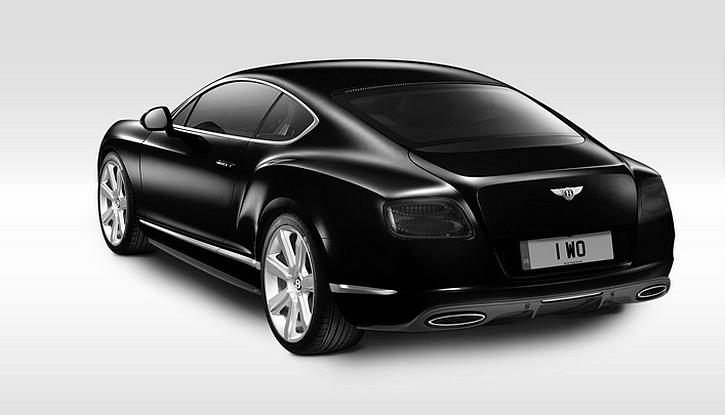car: (95, 57, 681, 360)
